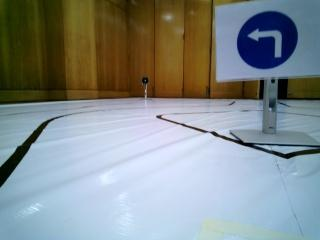left: (213, 9, 320, 73)
